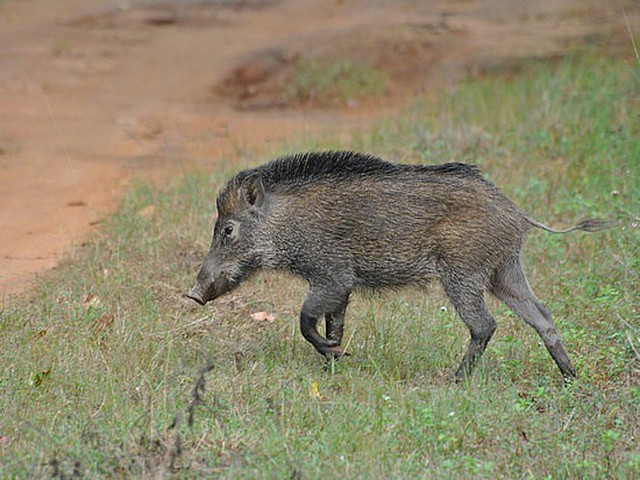Pig: (184, 146, 605, 372)
